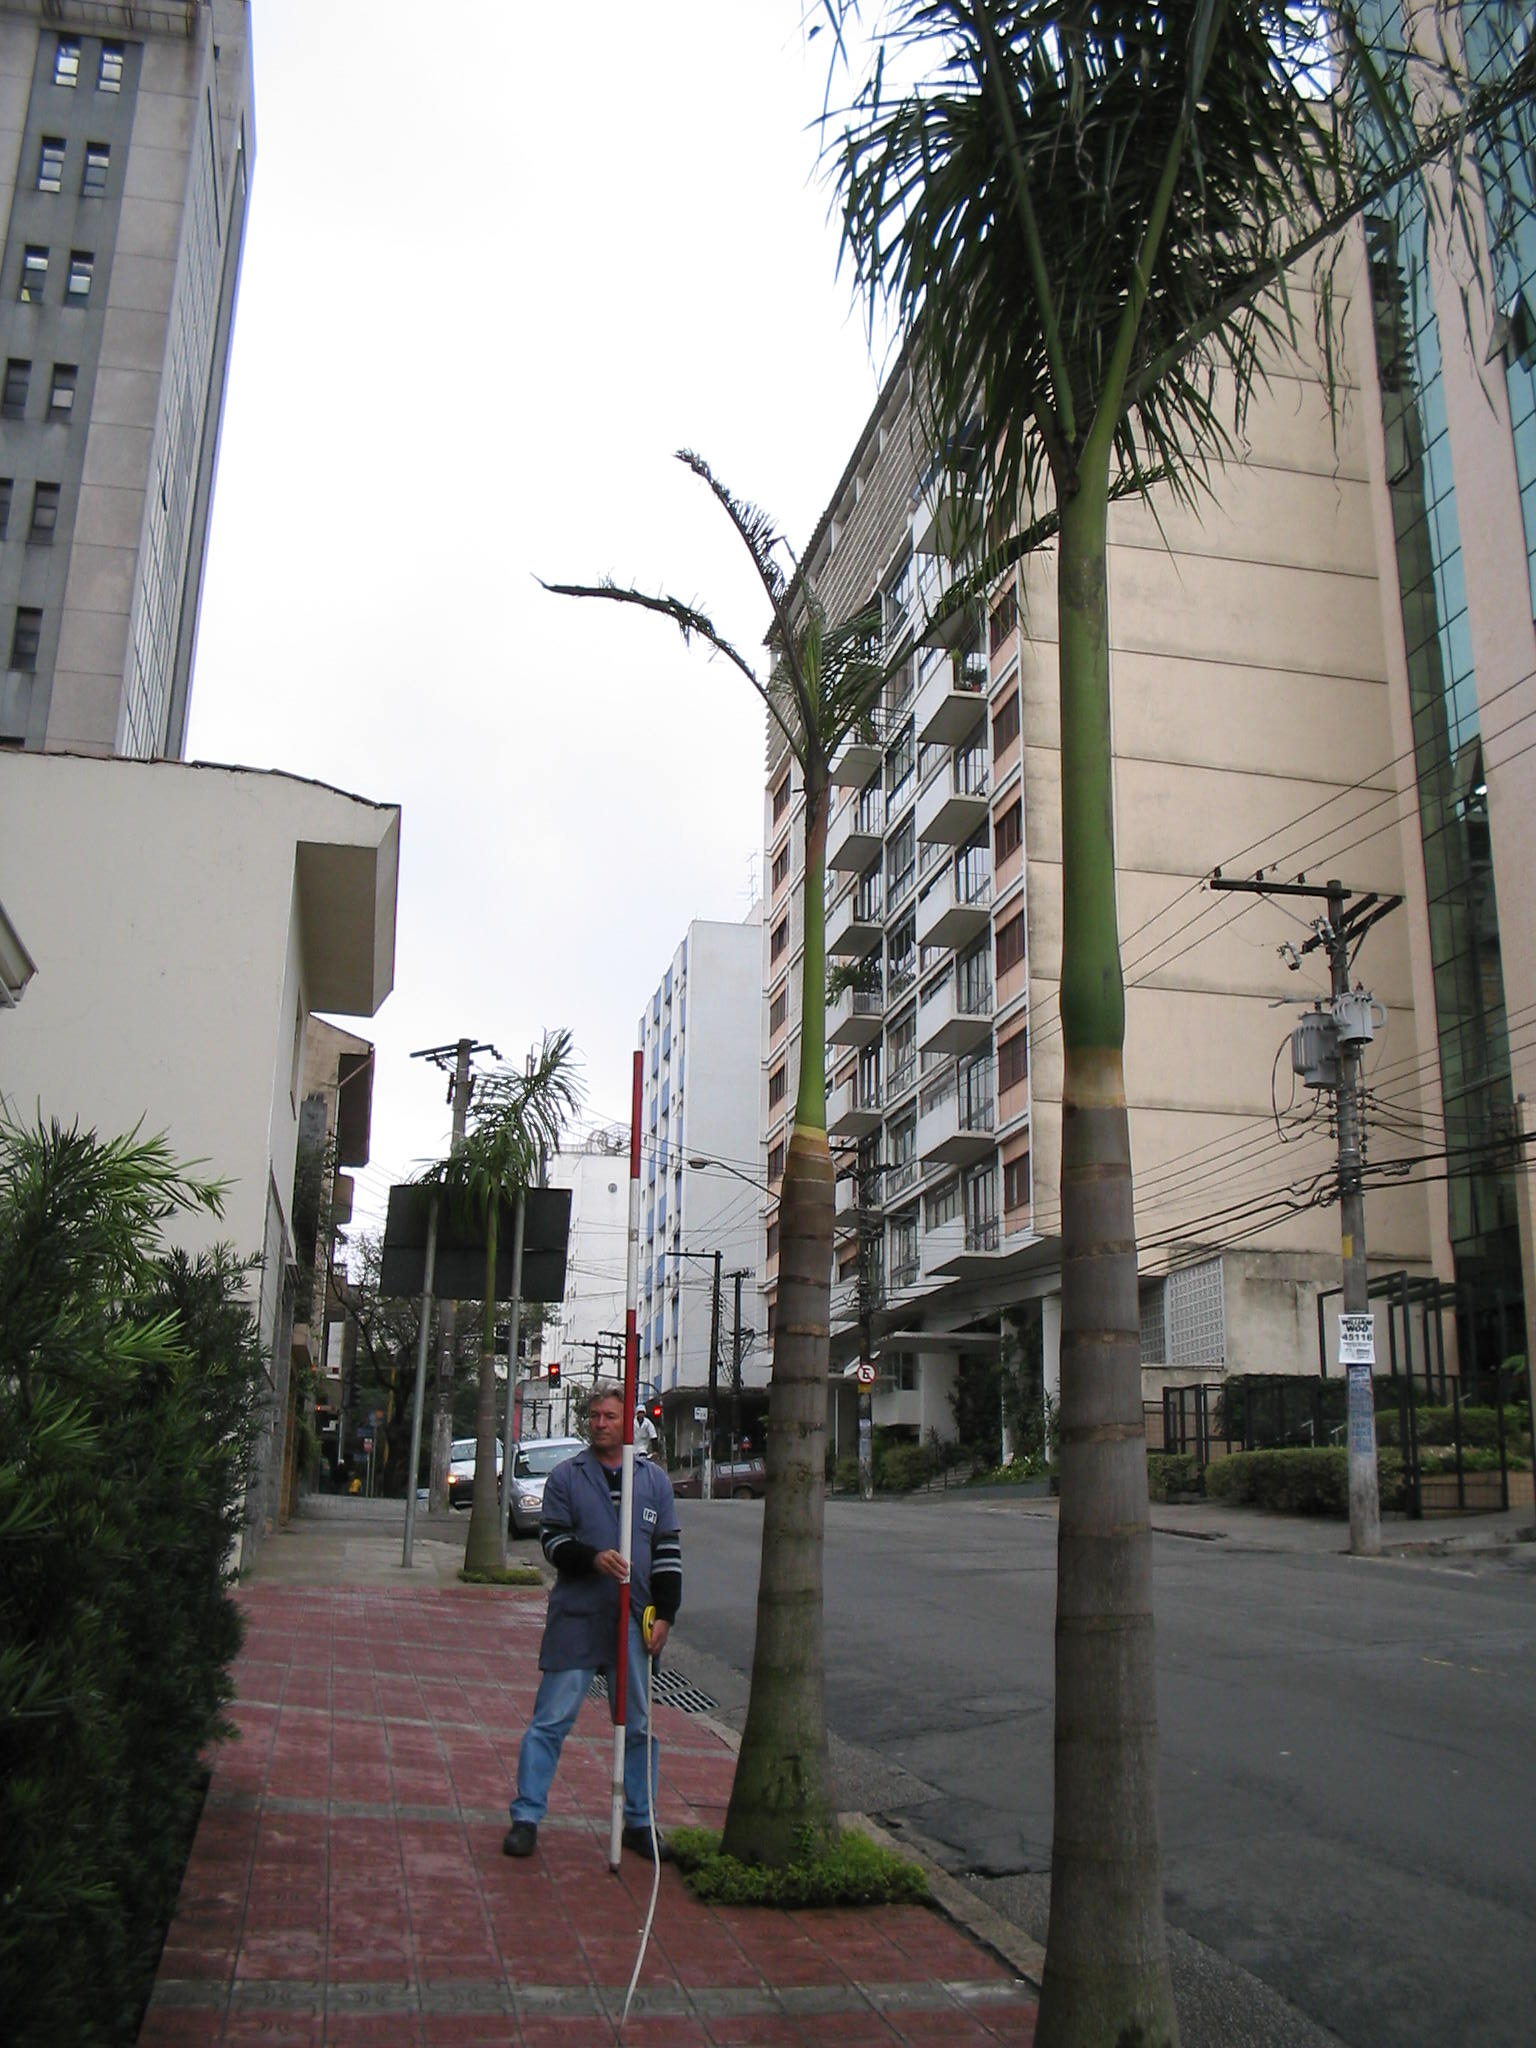crown: (833, 11, 1525, 690)
stem: (966, 705, 1252, 2040), (678, 866, 902, 1871), (445, 1276, 531, 1566)
stick: (594, 1047, 657, 1867)
tree: (823, 2, 1528, 2040), (516, 450, 1183, 1874), (424, 1037, 570, 1566)
